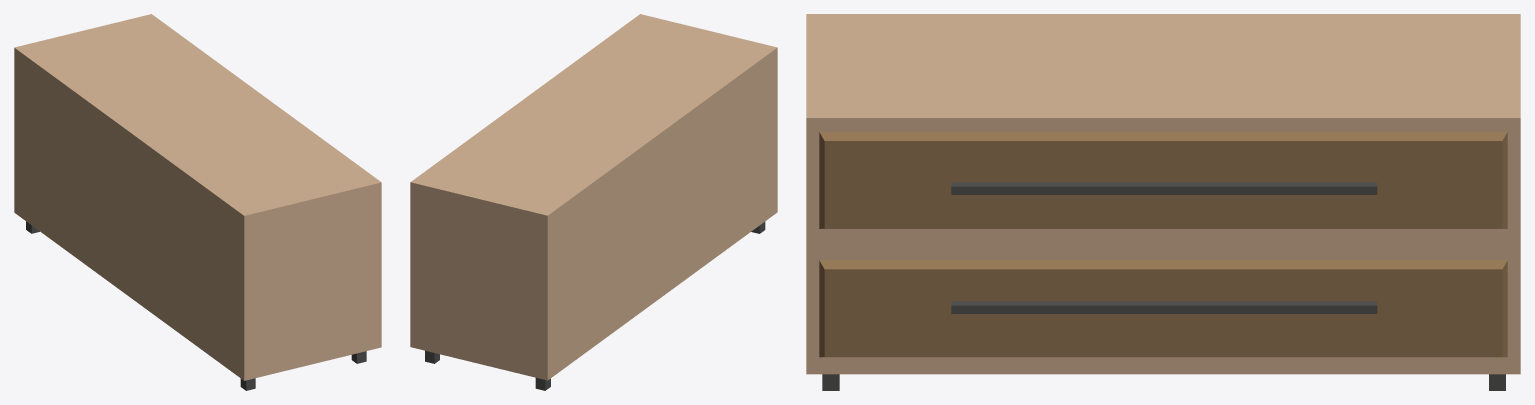
Rendered from dresser.fbx.
3 renders of one model, left to right at view 1: azimuth 30°, elevation 25°; view 2: azimuth 150°, elevation 25°; view 3: azimuth 270°, elevation 25°, orthographic. The views are drawn at different scales.
Parts seen in each view (by area): view 1: dresser; view 2: dresser; view 3: dresser.
Part boxes in pixels (bbox=[...]): dresser: bbox=[14, 14, 381, 390]; dresser: bbox=[410, 14, 777, 390]; dresser: bbox=[806, 14, 1520, 390].
Size of the model in its own units: 83.28 by 96.37 by 223.
